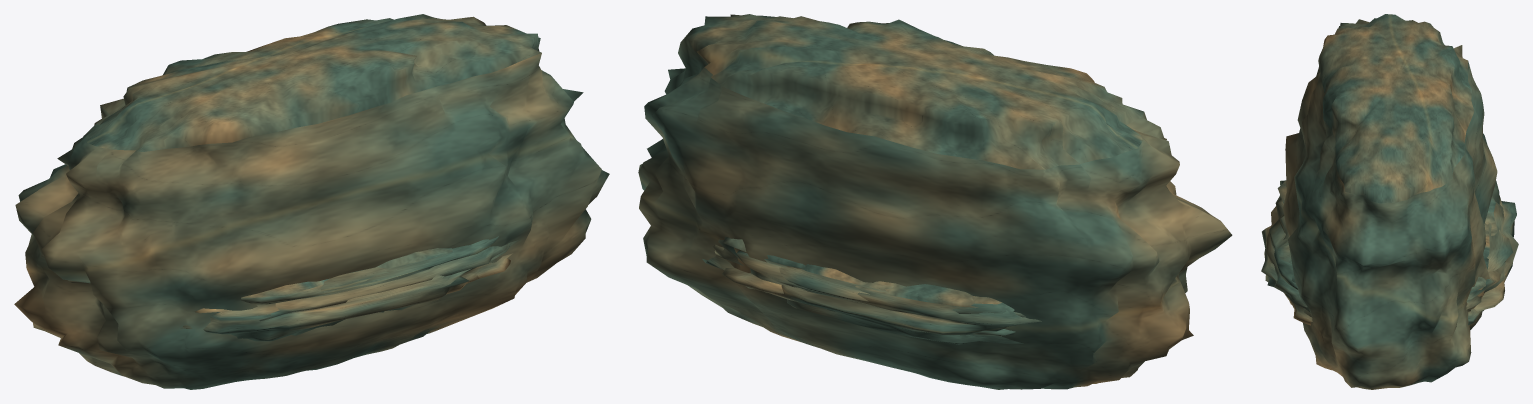
File: threshold-stone-set.glb
3 renders of one model, left to right at view 1: azimuth 30°, elevation 25°; view 2: azimuth 150°, elevation 25°; view 3: azimuth 270°, elevation 25°, orthographic. The views are drawn at different scales.
Visible parts, largest first — view 1: HeroGateStone, ThresholdPaverB, ThresholdPaverA; view 2: HeroGateStone, ThresholdPaverB, ThresholdPaverA; view 3: HeroGateStone, ThresholdPaverB, ThresholdPaverA.
Boxes of the visible parts, <box> form: HeroGateStone: <box>14,14,609,389</box>; ThresholdPaverB: <box>181,236,519,341</box>; ThresholdPaverA: <box>183,239,508,335</box>; HeroGateStone: <box>638,14,1232,389</box>; ThresholdPaverB: <box>702,237,1041,344</box>; ThresholdPaverA: <box>714,244,1025,336</box>; HeroGateStone: <box>1283,14,1497,389</box>; ThresholdPaverB: <box>1261,180,1518,325</box>; ThresholdPaverA: <box>1266,206,1513,311</box>.
Bounding box in the file's own units: 5.07 × 2.47 × 2.32.
Materials: 1 (1 with a texture image).
